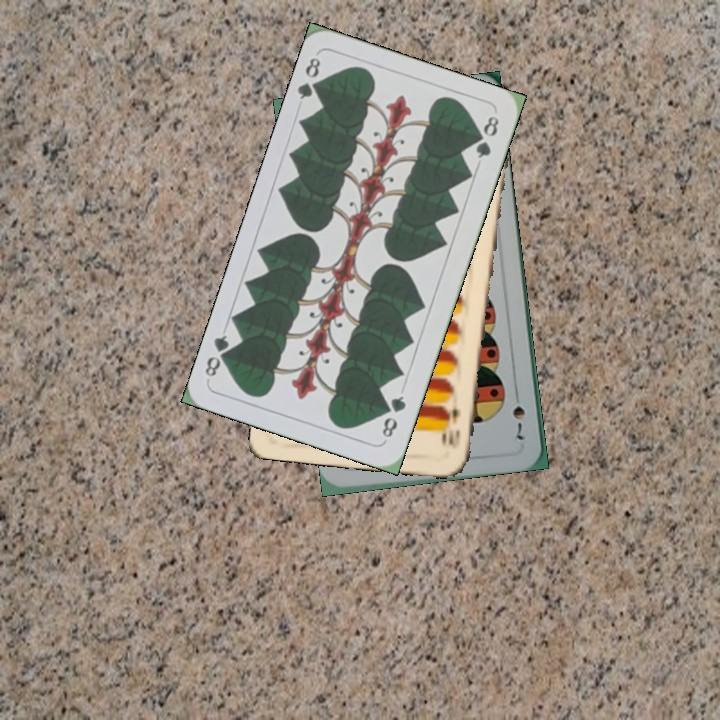E10: (444, 404, 463, 451)
G8: (294, 53, 327, 102), (378, 391, 409, 441)
S7: (508, 386, 527, 442)
